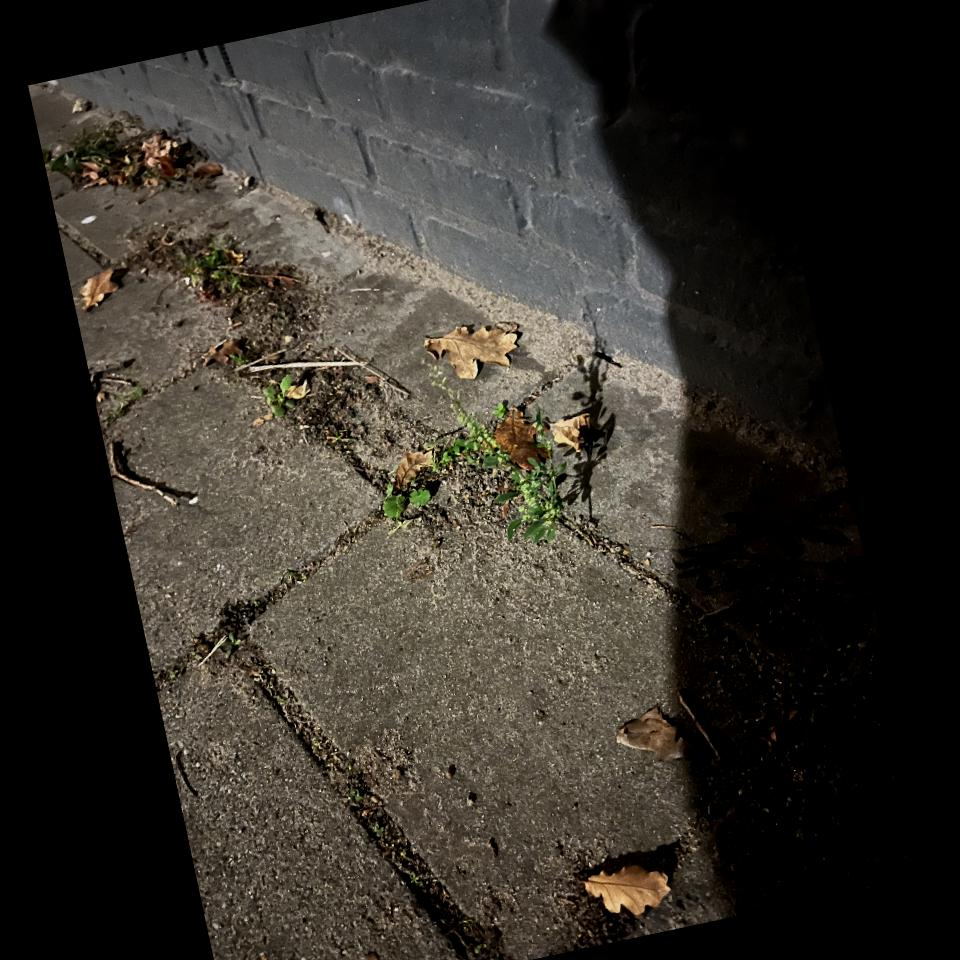weed: (434, 401, 573, 549), (184, 244, 247, 296), (104, 390, 148, 429)
